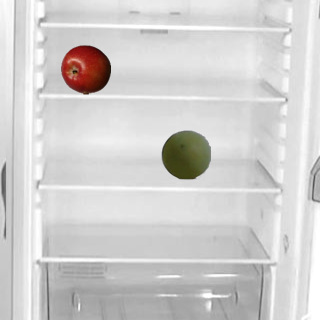Apple Braeburn: (60, 44, 110, 94)
Grape White 4: (160, 129, 210, 179)
